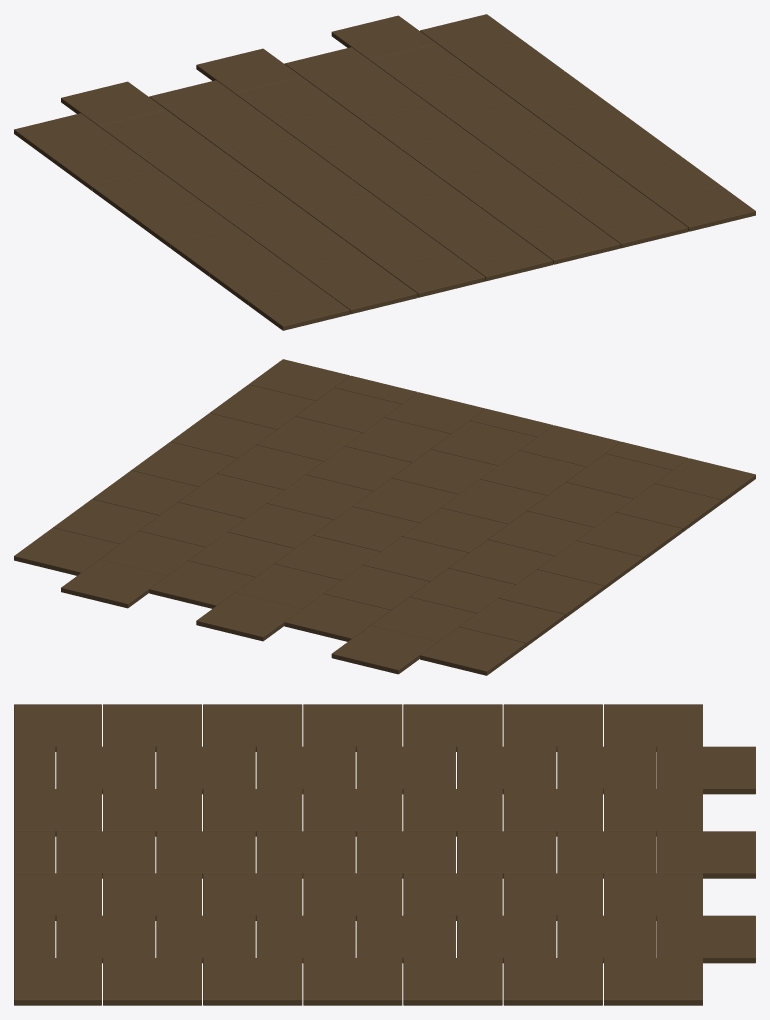
File: suelo2.fbx
The picture shows the model from 3 angles, top to bottom: view 1: azimuth 30°, elevation 25°; view 2: azimuth 150°, elevation 25°; view 3: azimuth 270°, elevation 25°; orthographic projection. The views are drawn at different scales.
Parts seen in each view (by area): view 1: Suelo; view 2: Suelo; view 3: Suelo.
Boxes of the visible parts, x1=… form: Suelo: x1=14, y1=14, x2=755, y2=330; Suelo: x1=14, y1=359, x2=755, y2=675; Suelo: x1=14, y1=704, x2=755, y2=1005.
Size of the model in its own units: 325 by 3.06 by 344.
